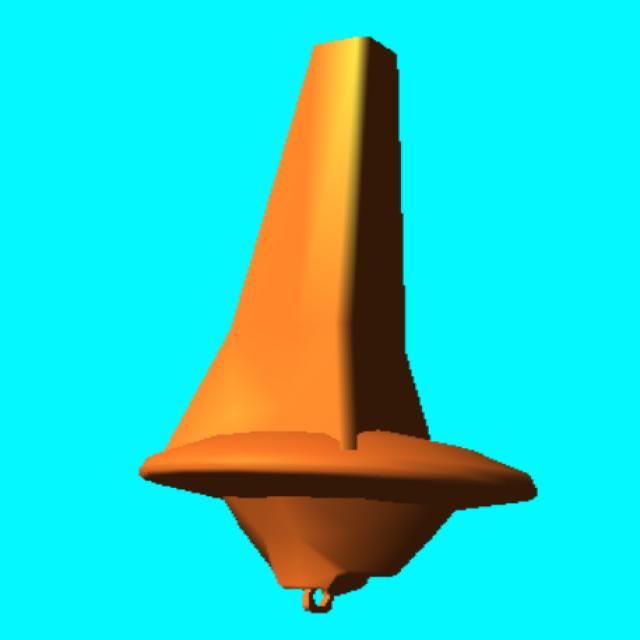OrangeBuoy: (141, 38, 536, 612)
